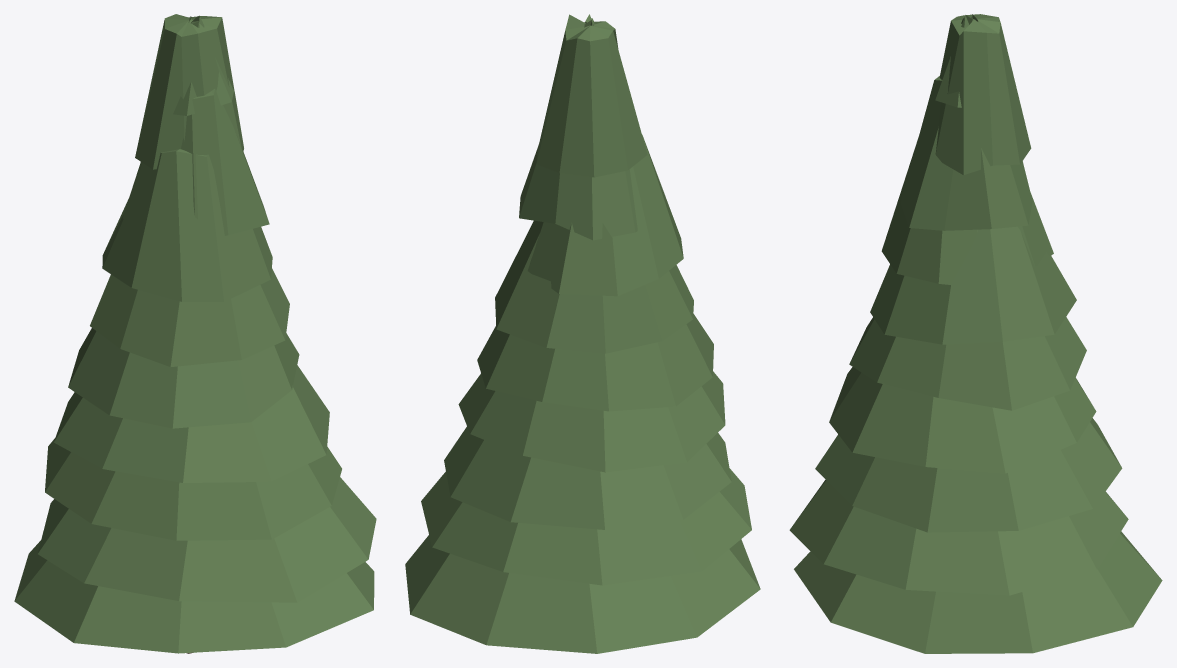
The model's file is SM_Tree_E.fbx.
The picture shows the model from 3 angles, left to right: view 1: azimuth 30°, elevation 25°; view 2: azimuth 150°, elevation 25°; view 3: azimuth 270°, elevation 25°; orthographic projection. The views are drawn at different scales.
Parts seen in each view (by area): view 1: SM_Tree_E; view 2: SM_Tree_E; view 3: SM_Tree_E.
Part boxes in pixels (x1=…): SM_Tree_E: x1=14, y1=14, x2=376, y2=653; SM_Tree_E: x1=405, y1=14, x2=760, y2=653; SM_Tree_E: x1=789, y1=14, x2=1162, y2=653.
Size of the model in its own units: 5.03 by 9.98 by 5.43.
